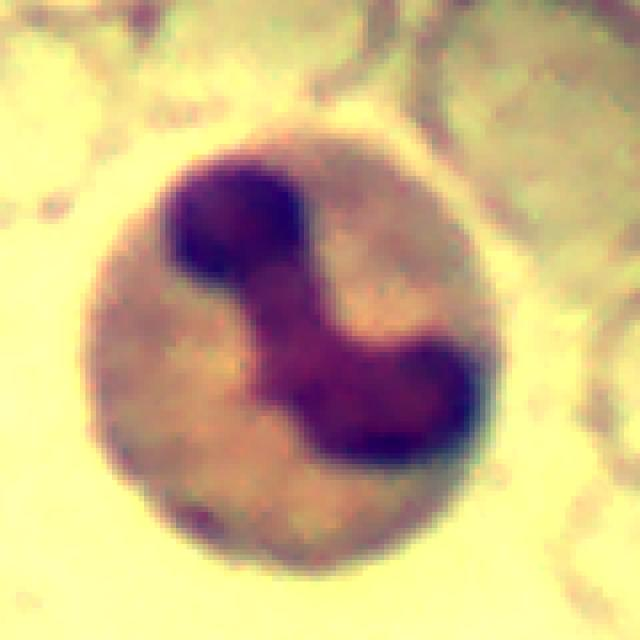WBC: (64, 112, 523, 592)
